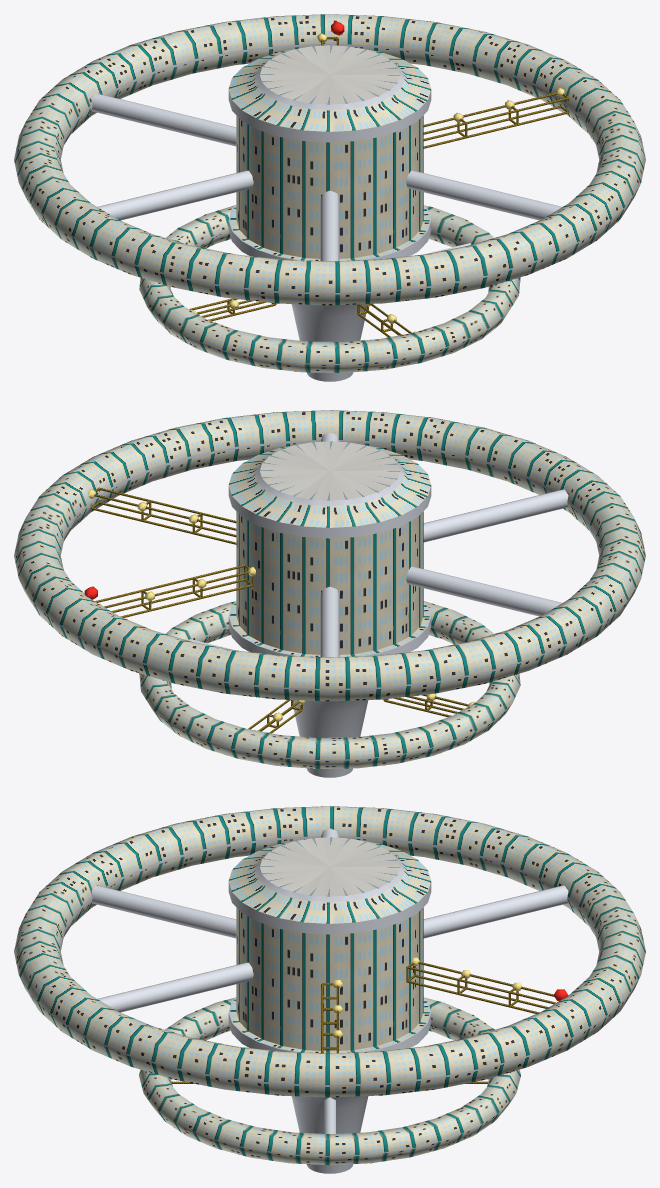
The model's file is research_station_build2.obj.
The picture shows the model from 3 angles, top to bottom: view 1: azimuth 30°, elevation 25°; view 2: azimuth 150°, elevation 25°; view 3: azimuth 270°, elevation 25°; orthographic projection.
Parts seen in each view (by area): view 1: lab_ring, hub, lab_ring2, spoke, post; view 2: lab_ring, hub, lab_ring2, spoke, post, girder, work_light; view 3: lab_ring, hub, lab_ring2, spoke, post, girder.
Boxes of the visible parts, x1=… form: lab_ring: x1=14, y1=14, x2=645, y2=305; hub: x1=228, y1=45, x2=431, y2=381; lab_ring2: x1=139, y1=205, x2=520, y2=372; spoke: x1=91, y1=93, x2=561, y2=261; post: x1=189, y1=37, x2=568, y2=337; lab_ring: x1=14, y1=410, x2=645, y2=701; hub: x1=228, y1=441, x2=431, y2=777; lab_ring2: x1=139, y1=601, x2=520, y2=768; spoke: x1=320, y1=432, x2=568, y2=657; post: x1=91, y1=487, x2=467, y2=733; girder: x1=90, y1=488, x2=432, y2=727; work_light: x1=88, y1=489, x2=475, y2=730; lab_ring: x1=14, y1=806, x2=645, y2=1097; hub: x1=228, y1=837, x2=431, y2=1173; lab_ring2: x1=139, y1=997, x2=520, y2=1165; spoke: x1=91, y1=828, x2=568, y2=1012; post: x1=171, y1=961, x2=555, y2=1083; girder: x1=321, y1=962, x2=518, y2=1049.
Size of the model in its own units: 162 by 84 by 162.
Materials: 5 (2 with a texture image).
